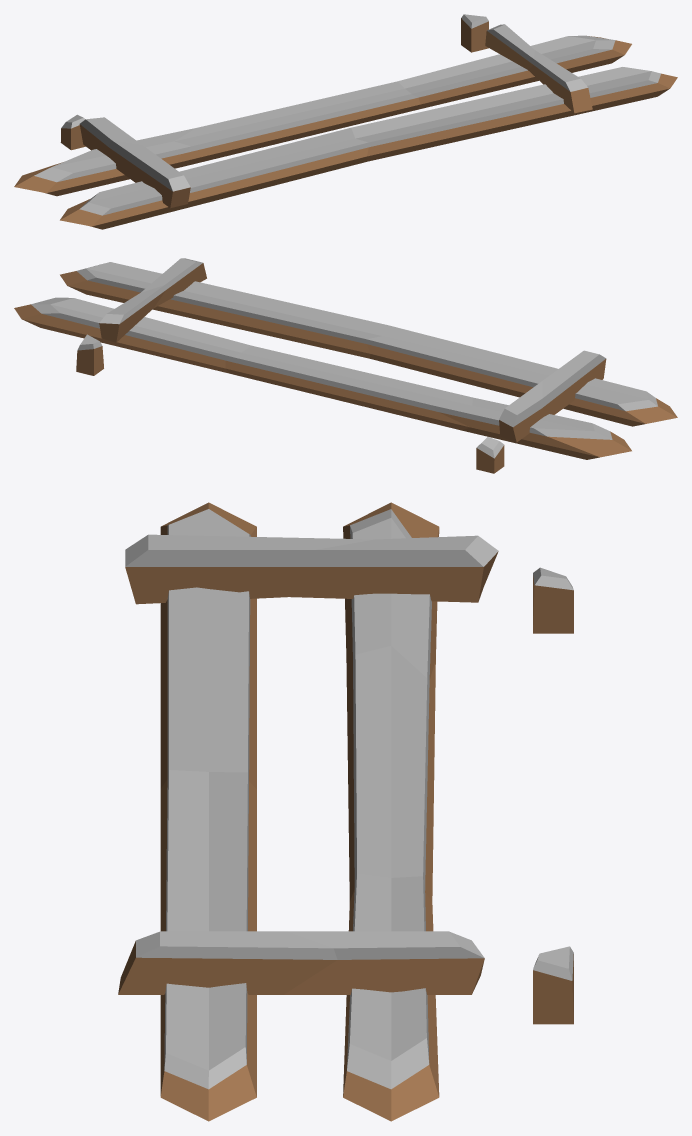
The model's file is Fence_3 Winter Broken.fbx.
3 renders of one model, top to bottom at view 1: azimuth 30°, elevation 25°; view 2: azimuth 150°, elevation 25°; view 3: azimuth 270°, elevation 25°, orthographic. The views are drawn at different scales.
Parts seen in each view (by area): view 1: Fence3BrokenWinter_mesh; view 2: Fence3BrokenWinter_mesh; view 3: Fence3BrokenWinter_mesh.
Part boxes in pixels (bbox=[...]): Fence3BrokenWinter_mesh: bbox=[14, 14, 677, 229]; Fence3BrokenWinter_mesh: bbox=[14, 258, 677, 473]; Fence3BrokenWinter_mesh: bbox=[118, 502, 573, 1121].
Size of the model in its own units: 336 by 22.74 by 107.
